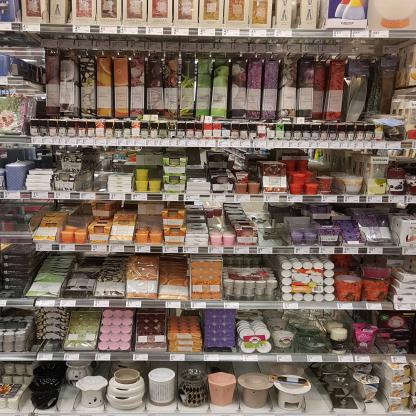Void: (306, 395, 329, 411)
